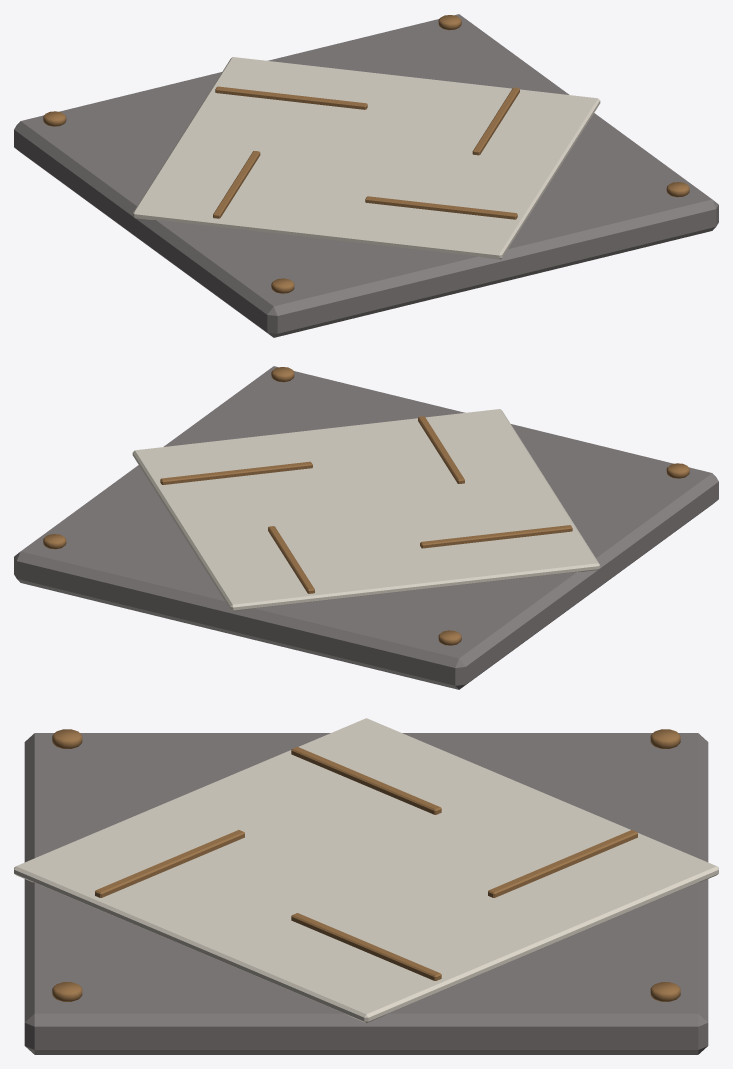
Rendered from floor_tile.glb.
The picture shows the model from 3 angles, top to bottom: view 1: azimuth 30°, elevation 25°; view 2: azimuth 150°, elevation 25°; view 3: azimuth 270°, elevation 25°; orthographic projection. The views are drawn at different scales.
Parts seen in each view (by area): view 1: FLOOR__tile, FLOOR__mosaic, FLOOR__bronze_inlay.003, FLOOR__bronze_inlay.001, FLOOR__bronze_inlay, FLOOR__bronze_inlay.002; view 2: FLOOR__tile, FLOOR__mosaic, FLOOR__bronze_inlay.002, FLOOR__bronze_inlay, FLOOR__bronze_inlay.001, FLOOR__bronze_inlay.003; view 3: FLOOR__tile, FLOOR__mosaic, FLOOR__bronze_inlay.002, FLOOR__bronze_inlay, FLOOR__bronze_inlay.001, FLOOR__bronze_inlay.003.
Boxes of the visible parts, box(x1,y1,x2,y2) form: FLOOR__tile: box(14, 14, 718, 337); FLOOR__mosaic: box(132, 57, 600, 259); FLOOR__bronze_inlay.003: box(365, 196, 517, 219); FLOOR__bronze_inlay.001: box(215, 86, 367, 109); FLOOR__bronze_inlay: box(472, 87, 519, 155); FLOOR__bronze_inlay.002: box(213, 151, 260, 218); FLOOR__tile: box(14, 366, 718, 689); FLOOR__mosaic: box(132, 409, 600, 611); FLOOR__bronze_inlay.002: box(420, 525, 572, 548); FLOOR__bronze_inlay: box(160, 461, 312, 484); FLOOR__bronze_inlay.001: box(268, 526, 314, 593); FLOOR__bronze_inlay.003: box(418, 416, 464, 483); FLOOR__tile: box(24, 733, 708, 1054); FLOOR__mosaic: box(14, 718, 718, 1023); FLOOR__bronze_inlay.002: box(291, 747, 441, 814); FLOOR__bronze_inlay: box(291, 913, 441, 980); FLOOR__bronze_inlay.001: box(488, 830, 637, 897); FLOOR__bronze_inlay.003: box(95, 830, 244, 897).
Bounding box in the file's own units: 2.47 × 0.2075 × 2.47.
